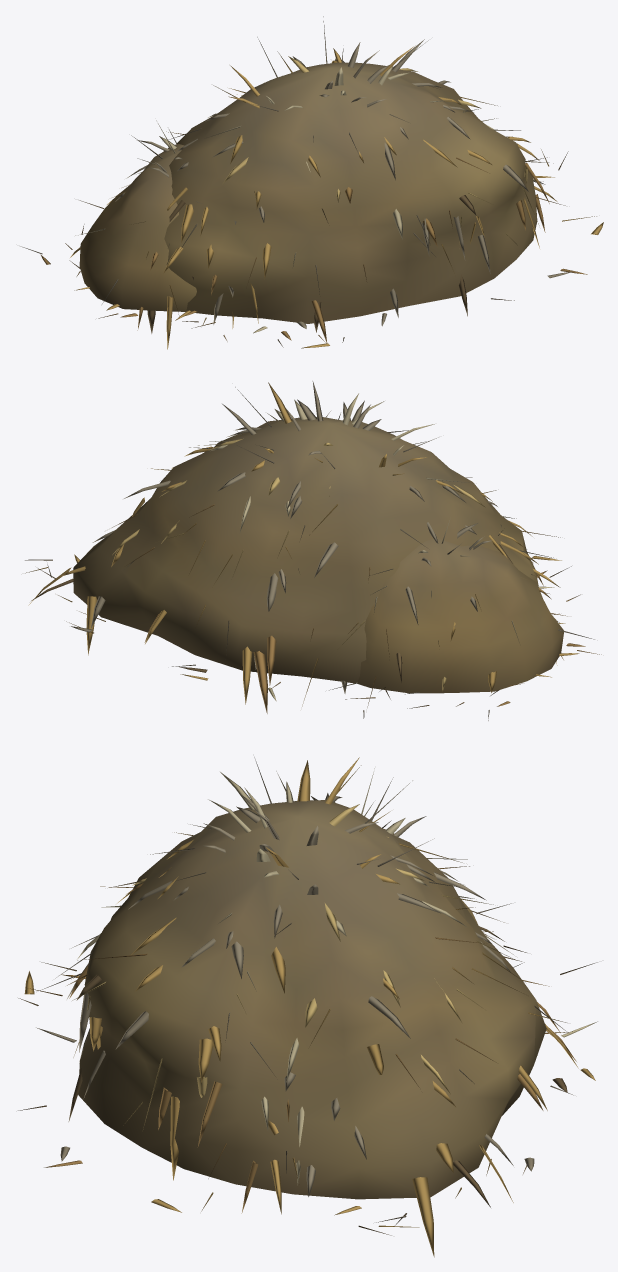
Rendered from haystack_heap_v2.glb.
3 views of the same model, one above another, from view 1: azimuth 30°, elevation 25°; view 2: azimuth 150°, elevation 25°; view 3: azimuth 270°, elevation 25° (orthographic). The views are drawn at different scales.
Visible parts, largest first — view 1: hb_thatch; view 2: hb_thatch; view 3: hb_thatch.
Part boxes in pixels (x1,y1,x2,y2): hb_thatch: (20,16,603,349); hb_thatch: (25,381,601,720); hb_thatch: (18,757,597,1257).
Bounding box in the file's own units: 7.44 × 3.19 × 5.31.
